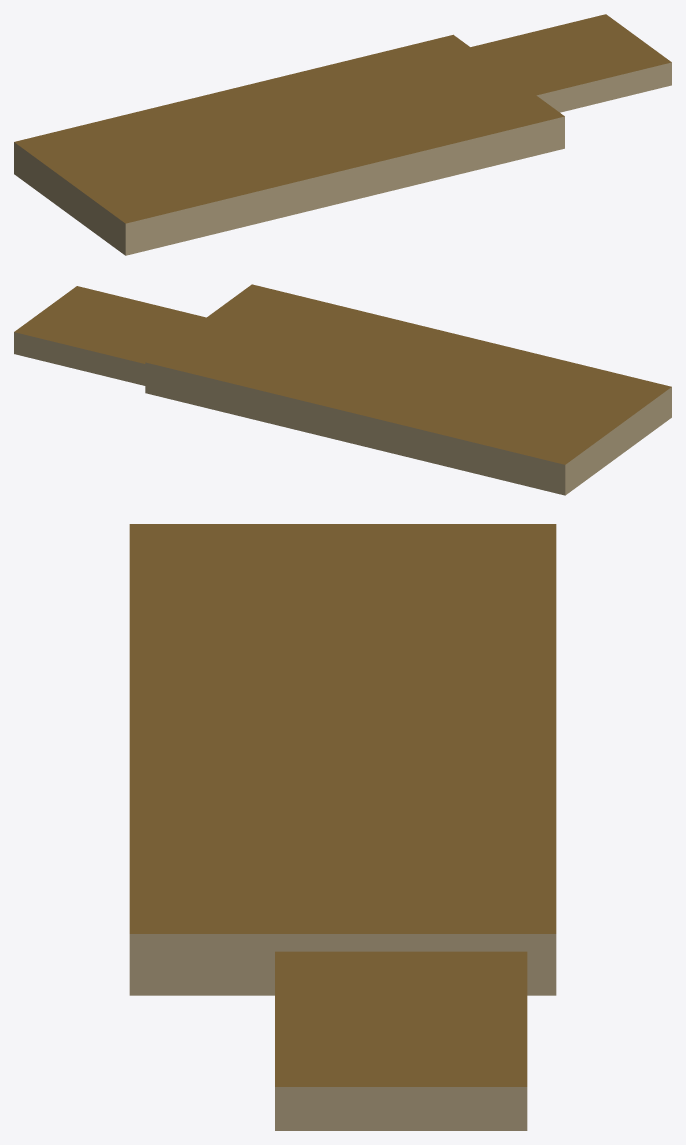
The model's file is canteen-low.glb.
3 renders of one model, top to bottom at view 1: azimuth 30°, elevation 25°; view 2: azimuth 150°, elevation 25°; view 3: azimuth 270°, elevation 25°, orthographic. The views are drawn at different scales.
Size of the model in its own units: 133 by 7 by 44.
